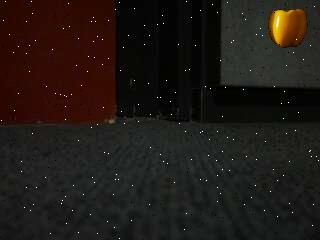Capsicum: (271, 2, 306, 48)
